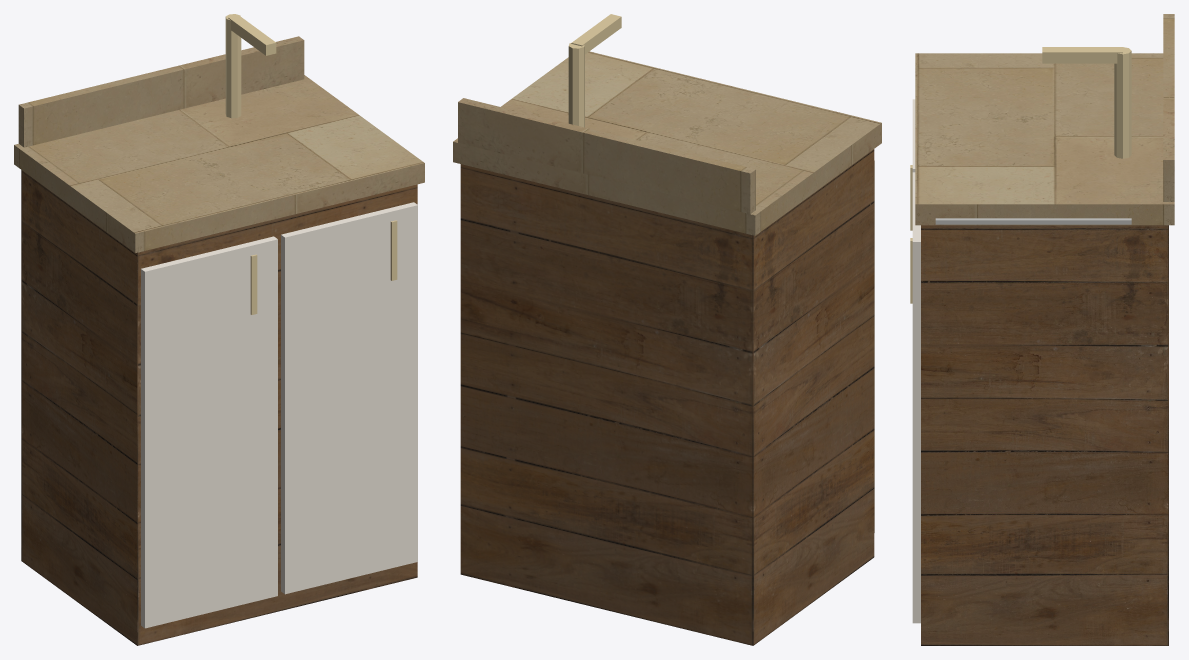
Rendered from lavatorio_60.glb.
3 views of the same model, side by side, from view 1: azimuth 30°, elevation 25°; view 2: azimuth 150°, elevation 25°; view 3: azimuth 270°, elevation 25° (orthographic). The views are drawn at different scales.
Visible parts, largest first — view 1: lavatorio_60; view 2: lavatorio_60; view 3: lavatorio_60.
Boxes of the visible parts, x1,y1,x2,y2 form: lavatorio_60: (14, 14, 424, 645); lavatorio_60: (453, 14, 881, 645); lavatorio_60: (910, 14, 1174, 645).
Bounding box in the file's own units: 0.628 × 1.05 × 0.459.
5 materials, 2 textured.
